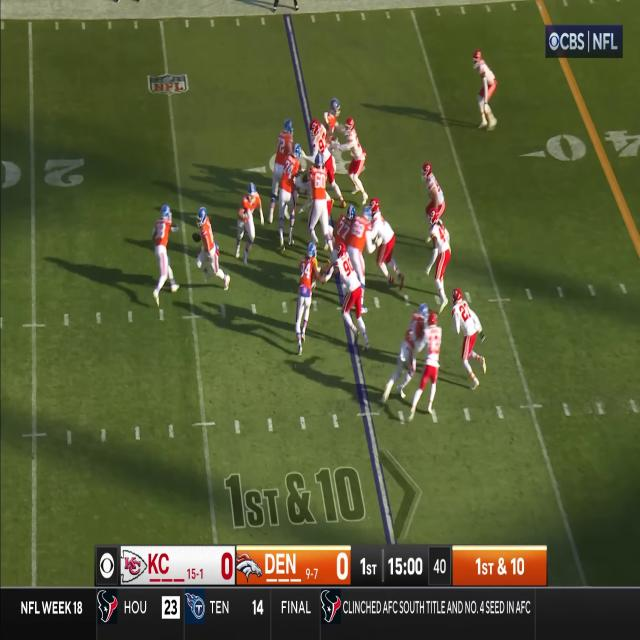Player: (329, 242, 364, 348), (390, 302, 430, 393), (349, 206, 383, 312), (296, 241, 321, 359), (452, 288, 479, 390), (417, 314, 442, 424), (425, 209, 451, 314), (308, 152, 334, 250), (152, 204, 176, 306), (196, 200, 224, 287), (370, 198, 396, 290), (280, 144, 301, 248), (473, 50, 498, 130), (238, 183, 262, 262), (345, 118, 366, 202), (272, 120, 294, 187), (421, 163, 447, 212), (305, 118, 329, 156), (334, 205, 354, 244), (326, 98, 342, 144)
